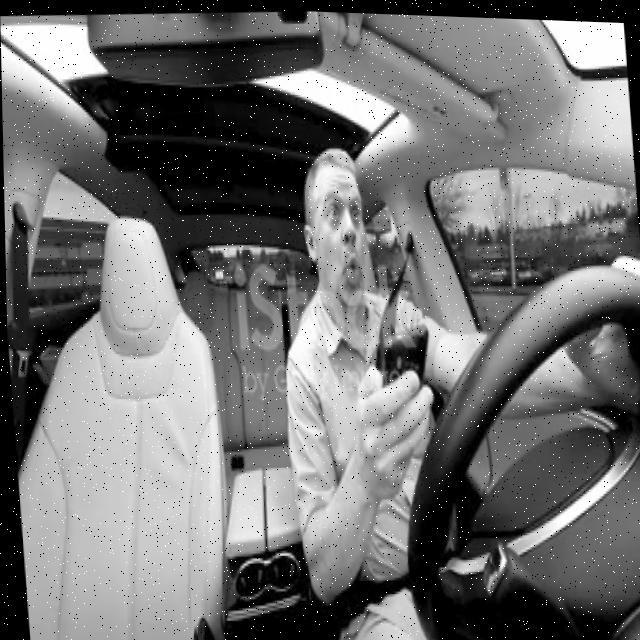PhoneCall: (377, 321, 434, 438)
